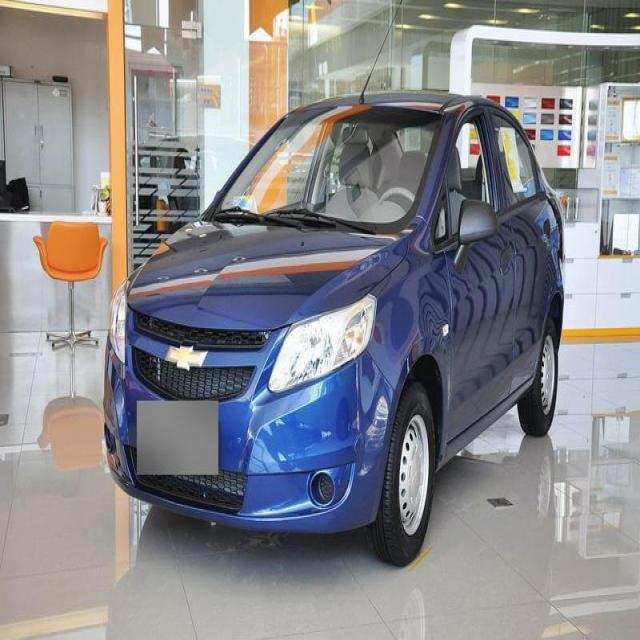door: (490, 104, 549, 386)
front_bumper: (100, 326, 402, 536)
front_glass: (208, 103, 442, 232)
front_left_side_door: (438, 96, 518, 454)
front_left_side_light: (266, 291, 378, 398)
front_left_side_mirror: (452, 194, 498, 270)
front_right_side_light: (108, 274, 130, 366)
wheel: (369, 375, 438, 566), (517, 309, 560, 436)
